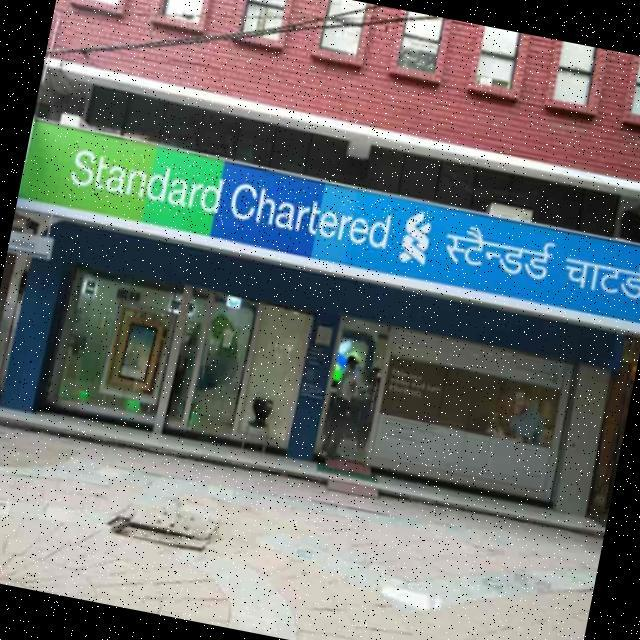Standard Chartered: (63, 140, 435, 265)
